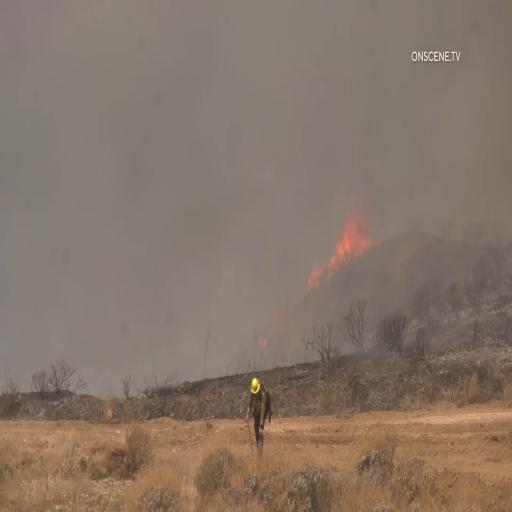smoke: (35, 43, 274, 300)
